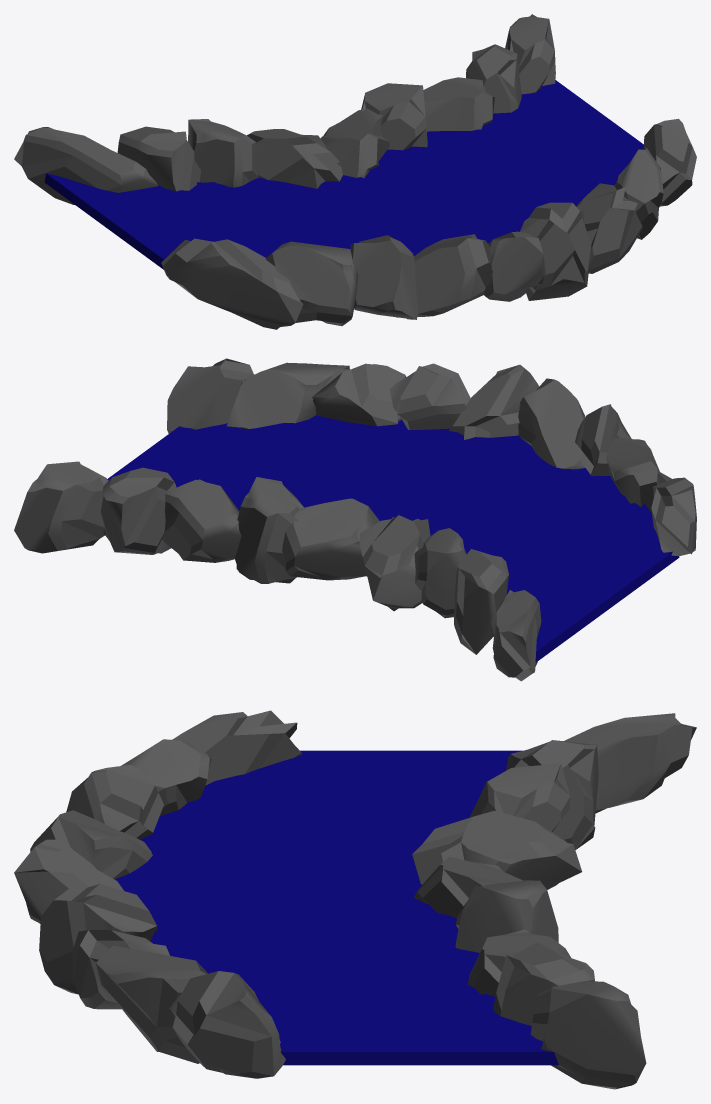
File: Formation4.obj
3 renders of one model, top to bottom at view 1: azimuth 30°, elevation 25°; view 2: azimuth 150°, elevation 25°; view 3: azimuth 270°, elevation 25°, orthographic. The views are drawn at different scales.
Visible parts, largest first — view 1: Formation4 Boundary, Inside Formation4; view 2: Formation4 Boundary, Inside Formation4; view 3: Formation4 Boundary, Inside Formation4.
Part boxes in pixels (x1,y1,x2,y2): Formation4 Boundary: [14, 14, 696, 329]; Inside Formation4: [44, 80, 643, 269]; Formation4 Boundary: [14, 358, 696, 681]; Inside Formation4: [107, 415, 679, 662]; Formation4 Boundary: [14, 710, 696, 1089]; Inside Formation4: [115, 750, 558, 1065].
Bounding box in the file's own units: 10.72 × 1.88 × 9.63.
